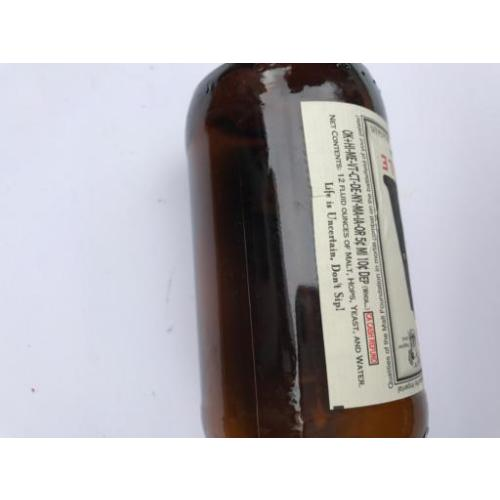glass: (186, 65, 431, 437)
